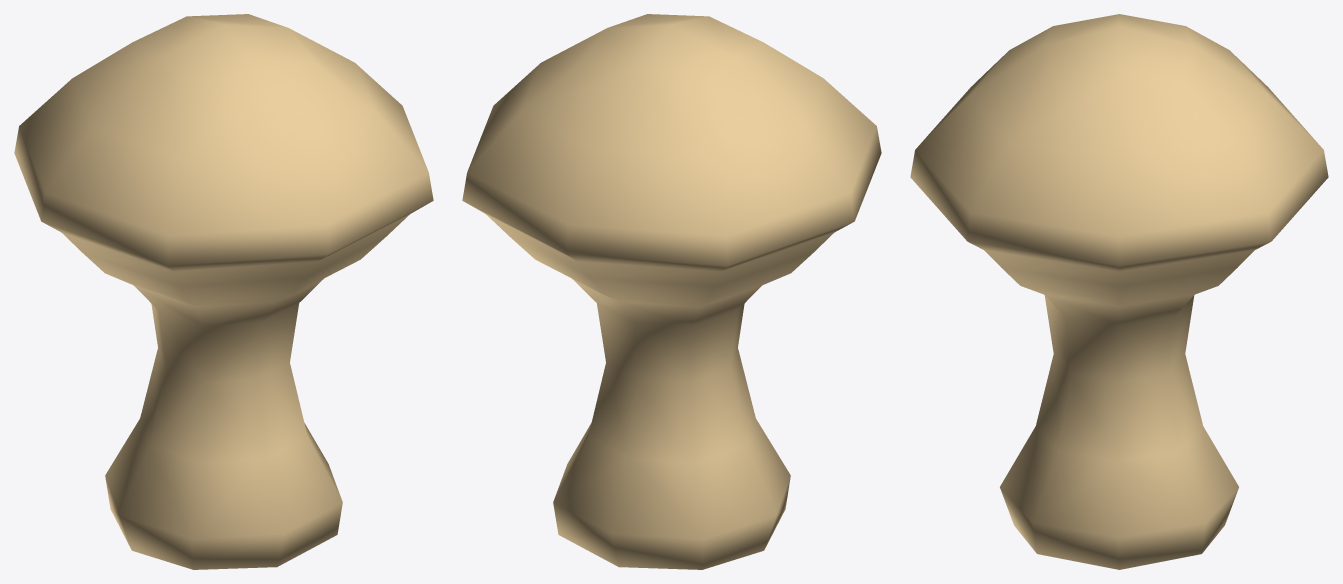
Rendered from Mesh_PillarShroom.glb.
3 views of the same model, side by side, from view 1: azimuth 30°, elevation 25°; view 2: azimuth 150°, elevation 25°; view 3: azimuth 270°, elevation 25° (orthographic).
Visible parts, largest first — view 1: Cube.057; view 2: Cube.057; view 3: Cube.057.
Boxes of the visible parts, left/top/right/bottom form: Cube.057: left=14, top=14, right=433, bottom=569; Cube.057: left=462, top=14, right=881, bottom=569; Cube.057: left=910, top=14, right=1328, bottom=569.
Bounding box in the file's own units: 13.63 × 18.4 × 13.63.
